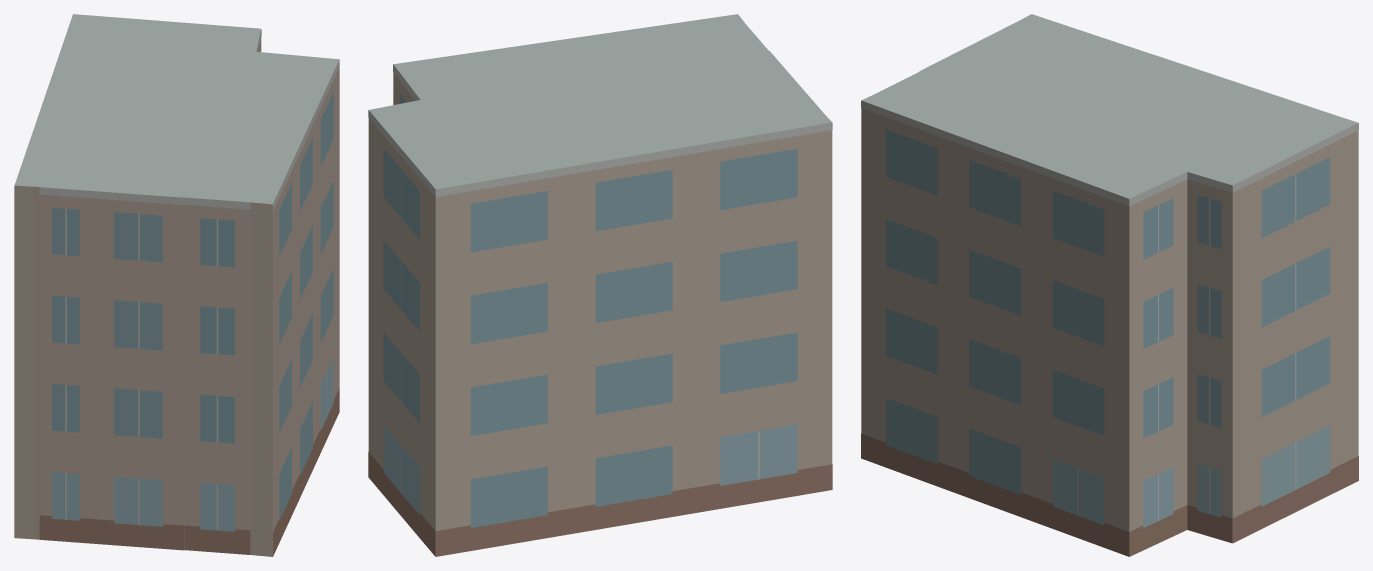
The model's file is survey-upis-32674299.glb.
3 renders of one model, left to right at view 1: azimuth 30°, elevation 25°; view 2: azimuth 150°, elevation 25°; view 3: azimuth 270°, elevation 25°, orthographic. The views are drawn at different scales.
Parts seen in each view (by area): view 1: survey-upis-32674299.tmp; view 2: survey-upis-32674299.tmp; view 3: survey-upis-32674299.tmp.
Part boxes in pixels (box(x1,y1,x2,y2)): survey-upis-32674299.tmp: box(14, 14, 339, 556); survey-upis-32674299.tmp: box(368, 14, 832, 556); survey-upis-32674299.tmp: box(861, 14, 1358, 556).
Size of the model in its own units: 12.91 by 11.65 by 14.68.
